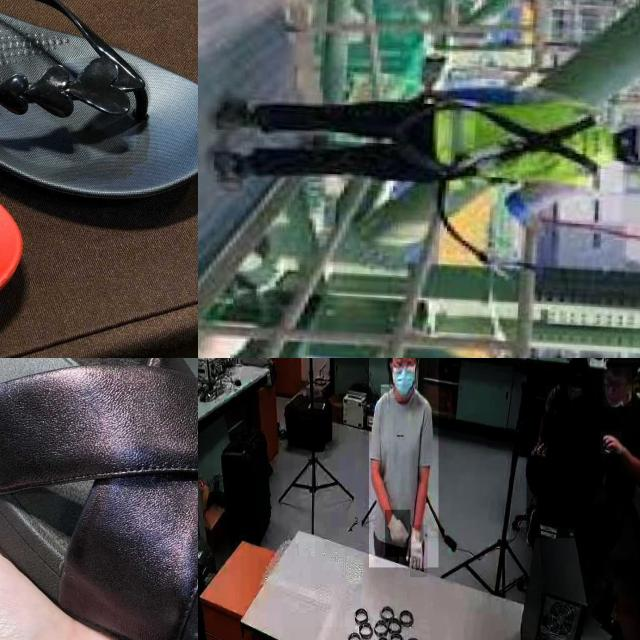Harness: (386, 91, 612, 187)
Sandals: (0, 358, 198, 640), (0, 0, 198, 223), (0, 9, 51, 358)
face_mask: (390, 358, 416, 397), (565, 376, 585, 410)
face_nomask: (603, 368, 633, 408)
hand_glove: (385, 510, 411, 558), (410, 525, 428, 578)
hand_noglove: (600, 432, 622, 454), (530, 438, 544, 456)
head_nohelmet: (566, 358, 587, 374)
person: (369, 358, 439, 568), (526, 358, 590, 539), (594, 358, 640, 591)
